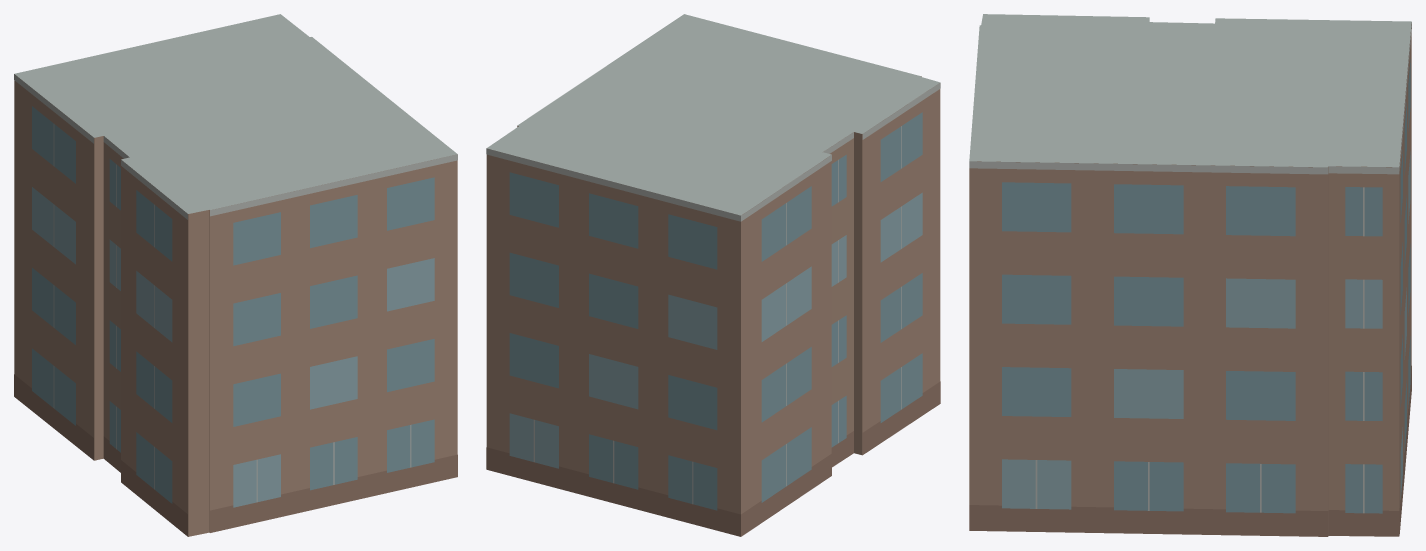
Rendered from survey-upis-32653427.glb.
3 renders of one model, left to right at view 1: azimuth 30°, elevation 25°; view 2: azimuth 150°, elevation 25°; view 3: azimuth 270°, elevation 25°, orthographic. The views are drawn at different scales.
Parts seen in each view (by area): view 1: survey-upis-32653427.tmp; view 2: survey-upis-32653427.tmp; view 3: survey-upis-32653427.tmp.
Boxes of the visible parts, x1=… form: survey-upis-32653427.tmp: x1=14, y1=14, x2=457, y2=536; survey-upis-32653427.tmp: x1=486, y1=14, x2=940, y2=536; survey-upis-32653427.tmp: x1=969, y1=14, x2=1411, y2=536.
Bounding box in the file's own units: 11.32 × 12.7 × 13.79.
